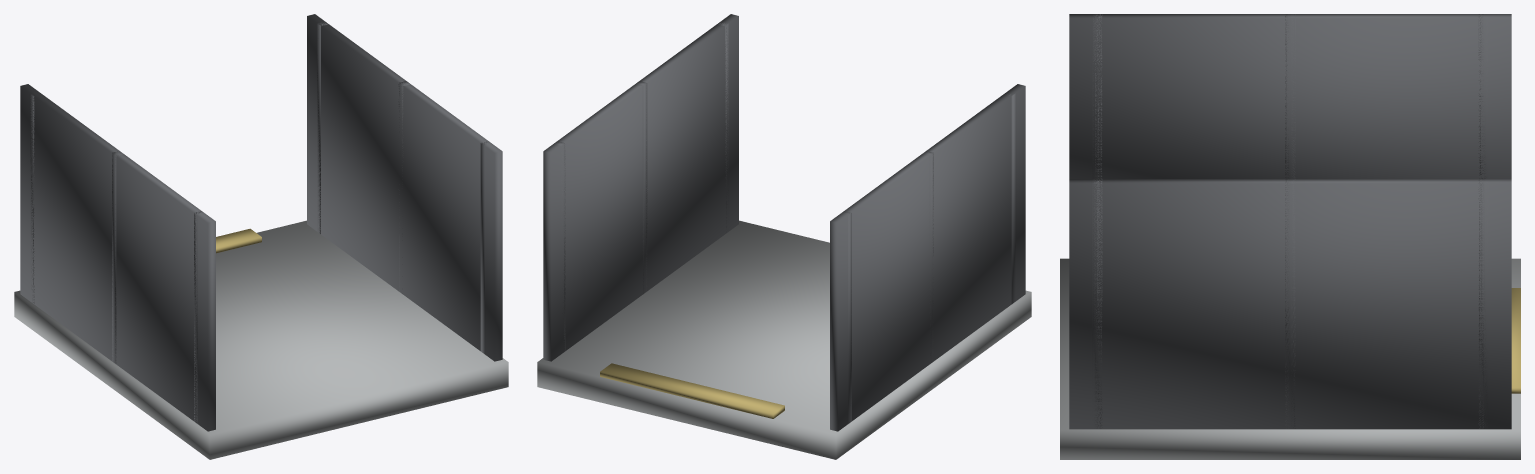
The model's file is floor_w150_d170_sides.glb.
3 views of the same model, side by side, from view 1: azimuth 30°, elevation 25°; view 2: azimuth 150°, elevation 25°; view 3: azimuth 270°, elevation 25° (orthographic). The views are drawn at different scales.
Visible parts, largest first — view 1: world; view 2: world; view 3: world.
Boxes of the visible parts, x1=… form: world: x1=14, y1=14, x2=508, y2=459; world: x1=537, y1=14, x2=1031, y2=459; world: x1=1060, y1=14, x2=1520, y2=459.
Bounding box in the file's own units: 1.5 × 1.12 × 1.7.
